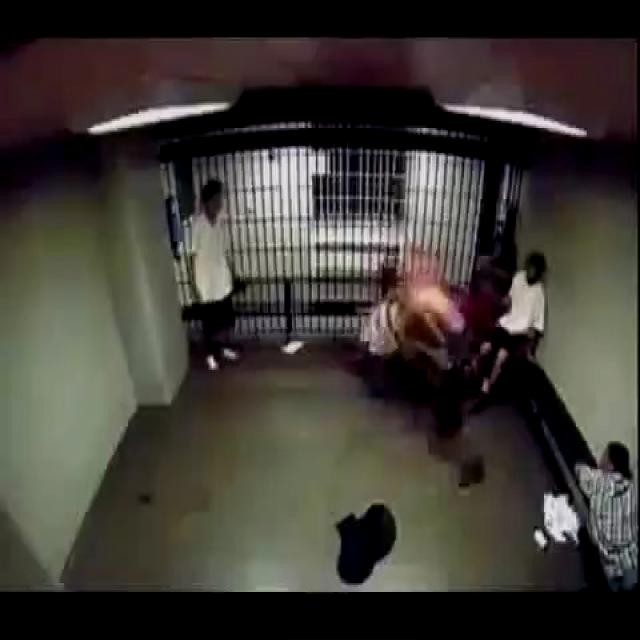fight: (330, 248, 504, 444)
